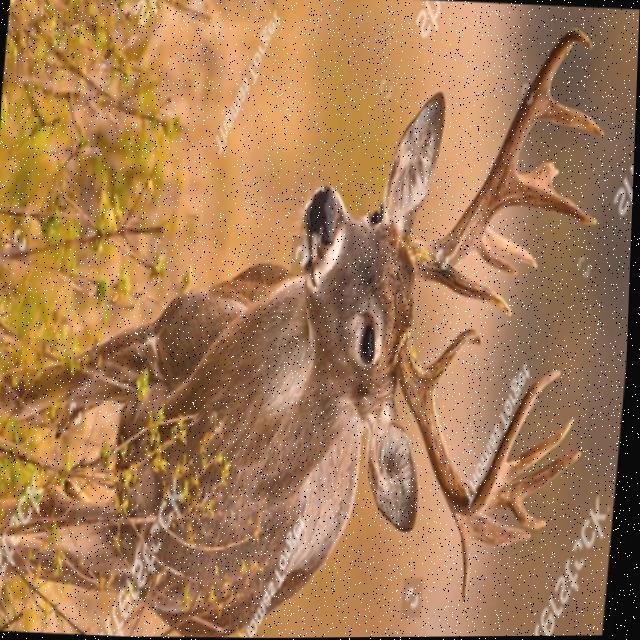L-F: (404, 26, 594, 279)
R-F: (397, 336, 564, 519)
